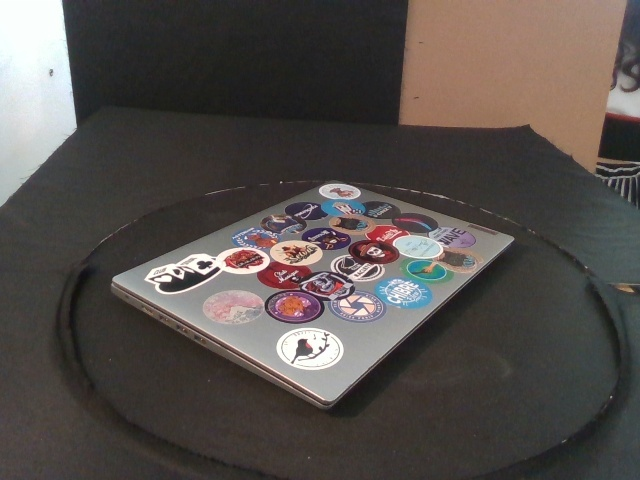laptop: (109, 180, 517, 410)
